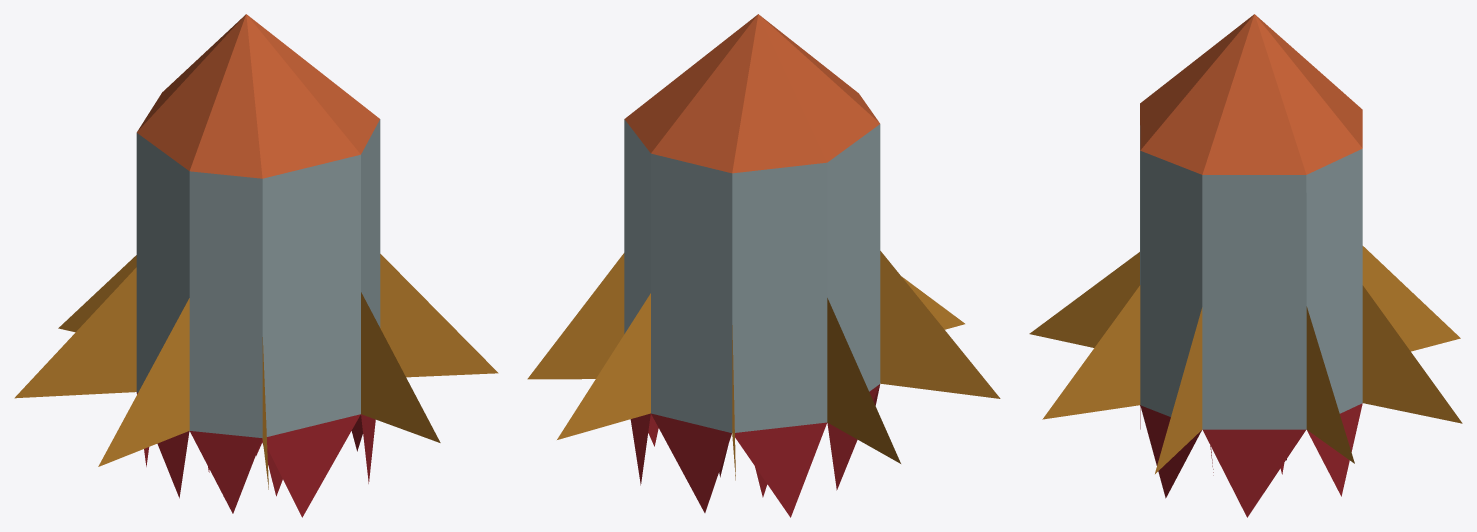
The model's file is rocket.glb.
The picture shows the model from 3 angles, left to right: view 1: azimuth 30°, elevation 25°; view 2: azimuth 150°, elevation 25°; view 3: azimuth 270°, elevation 25°; orthographic projection. The views are drawn at different scales.
Bounding box in the file's own units: 8.08 × 9.14 × 7.79.
